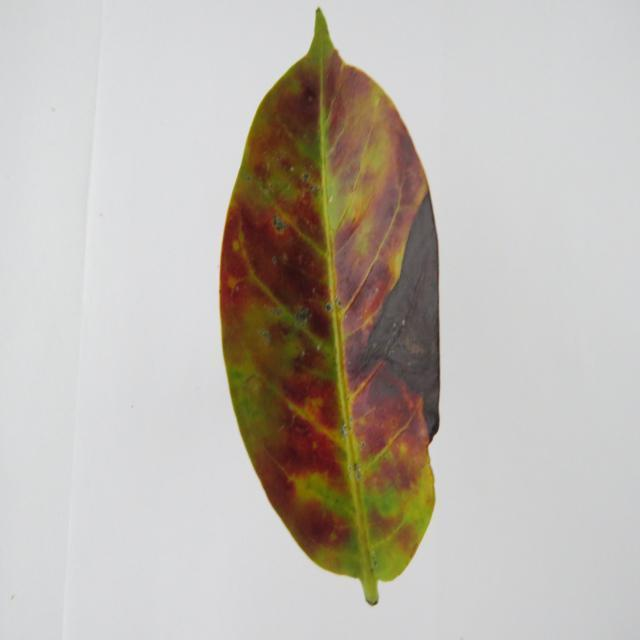DeficienciaNutricional-Fosforo: (220, 8, 440, 605)
